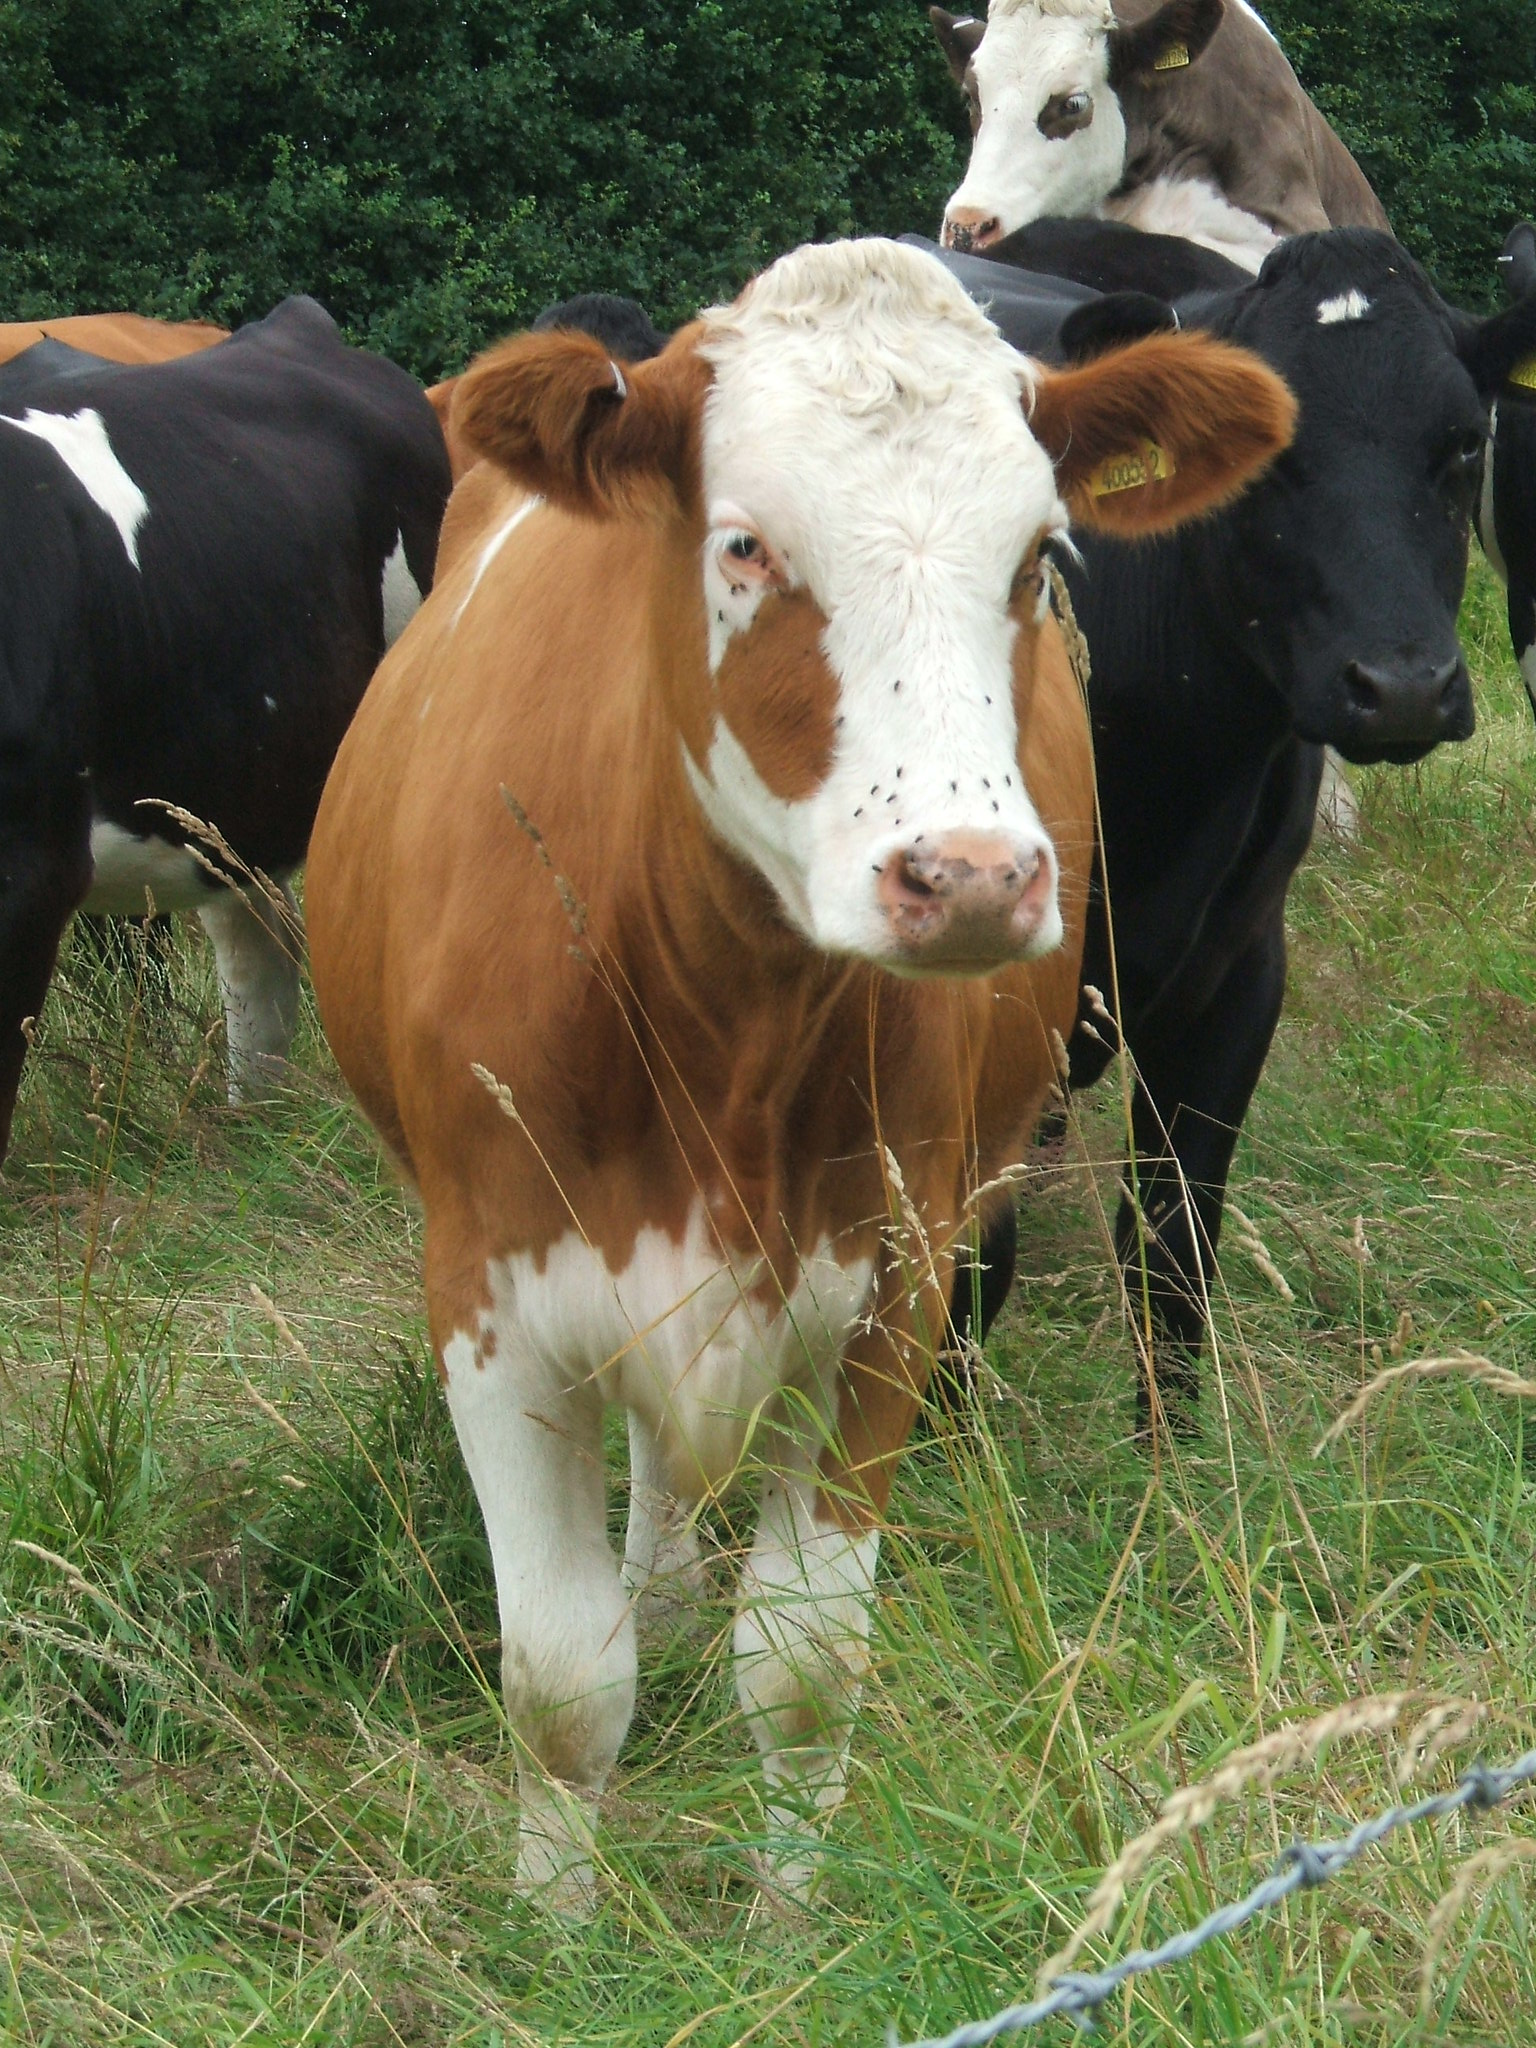cow: (350, 226, 1092, 1929), (1092, 223, 1471, 1447), (913, 10, 1399, 248)
